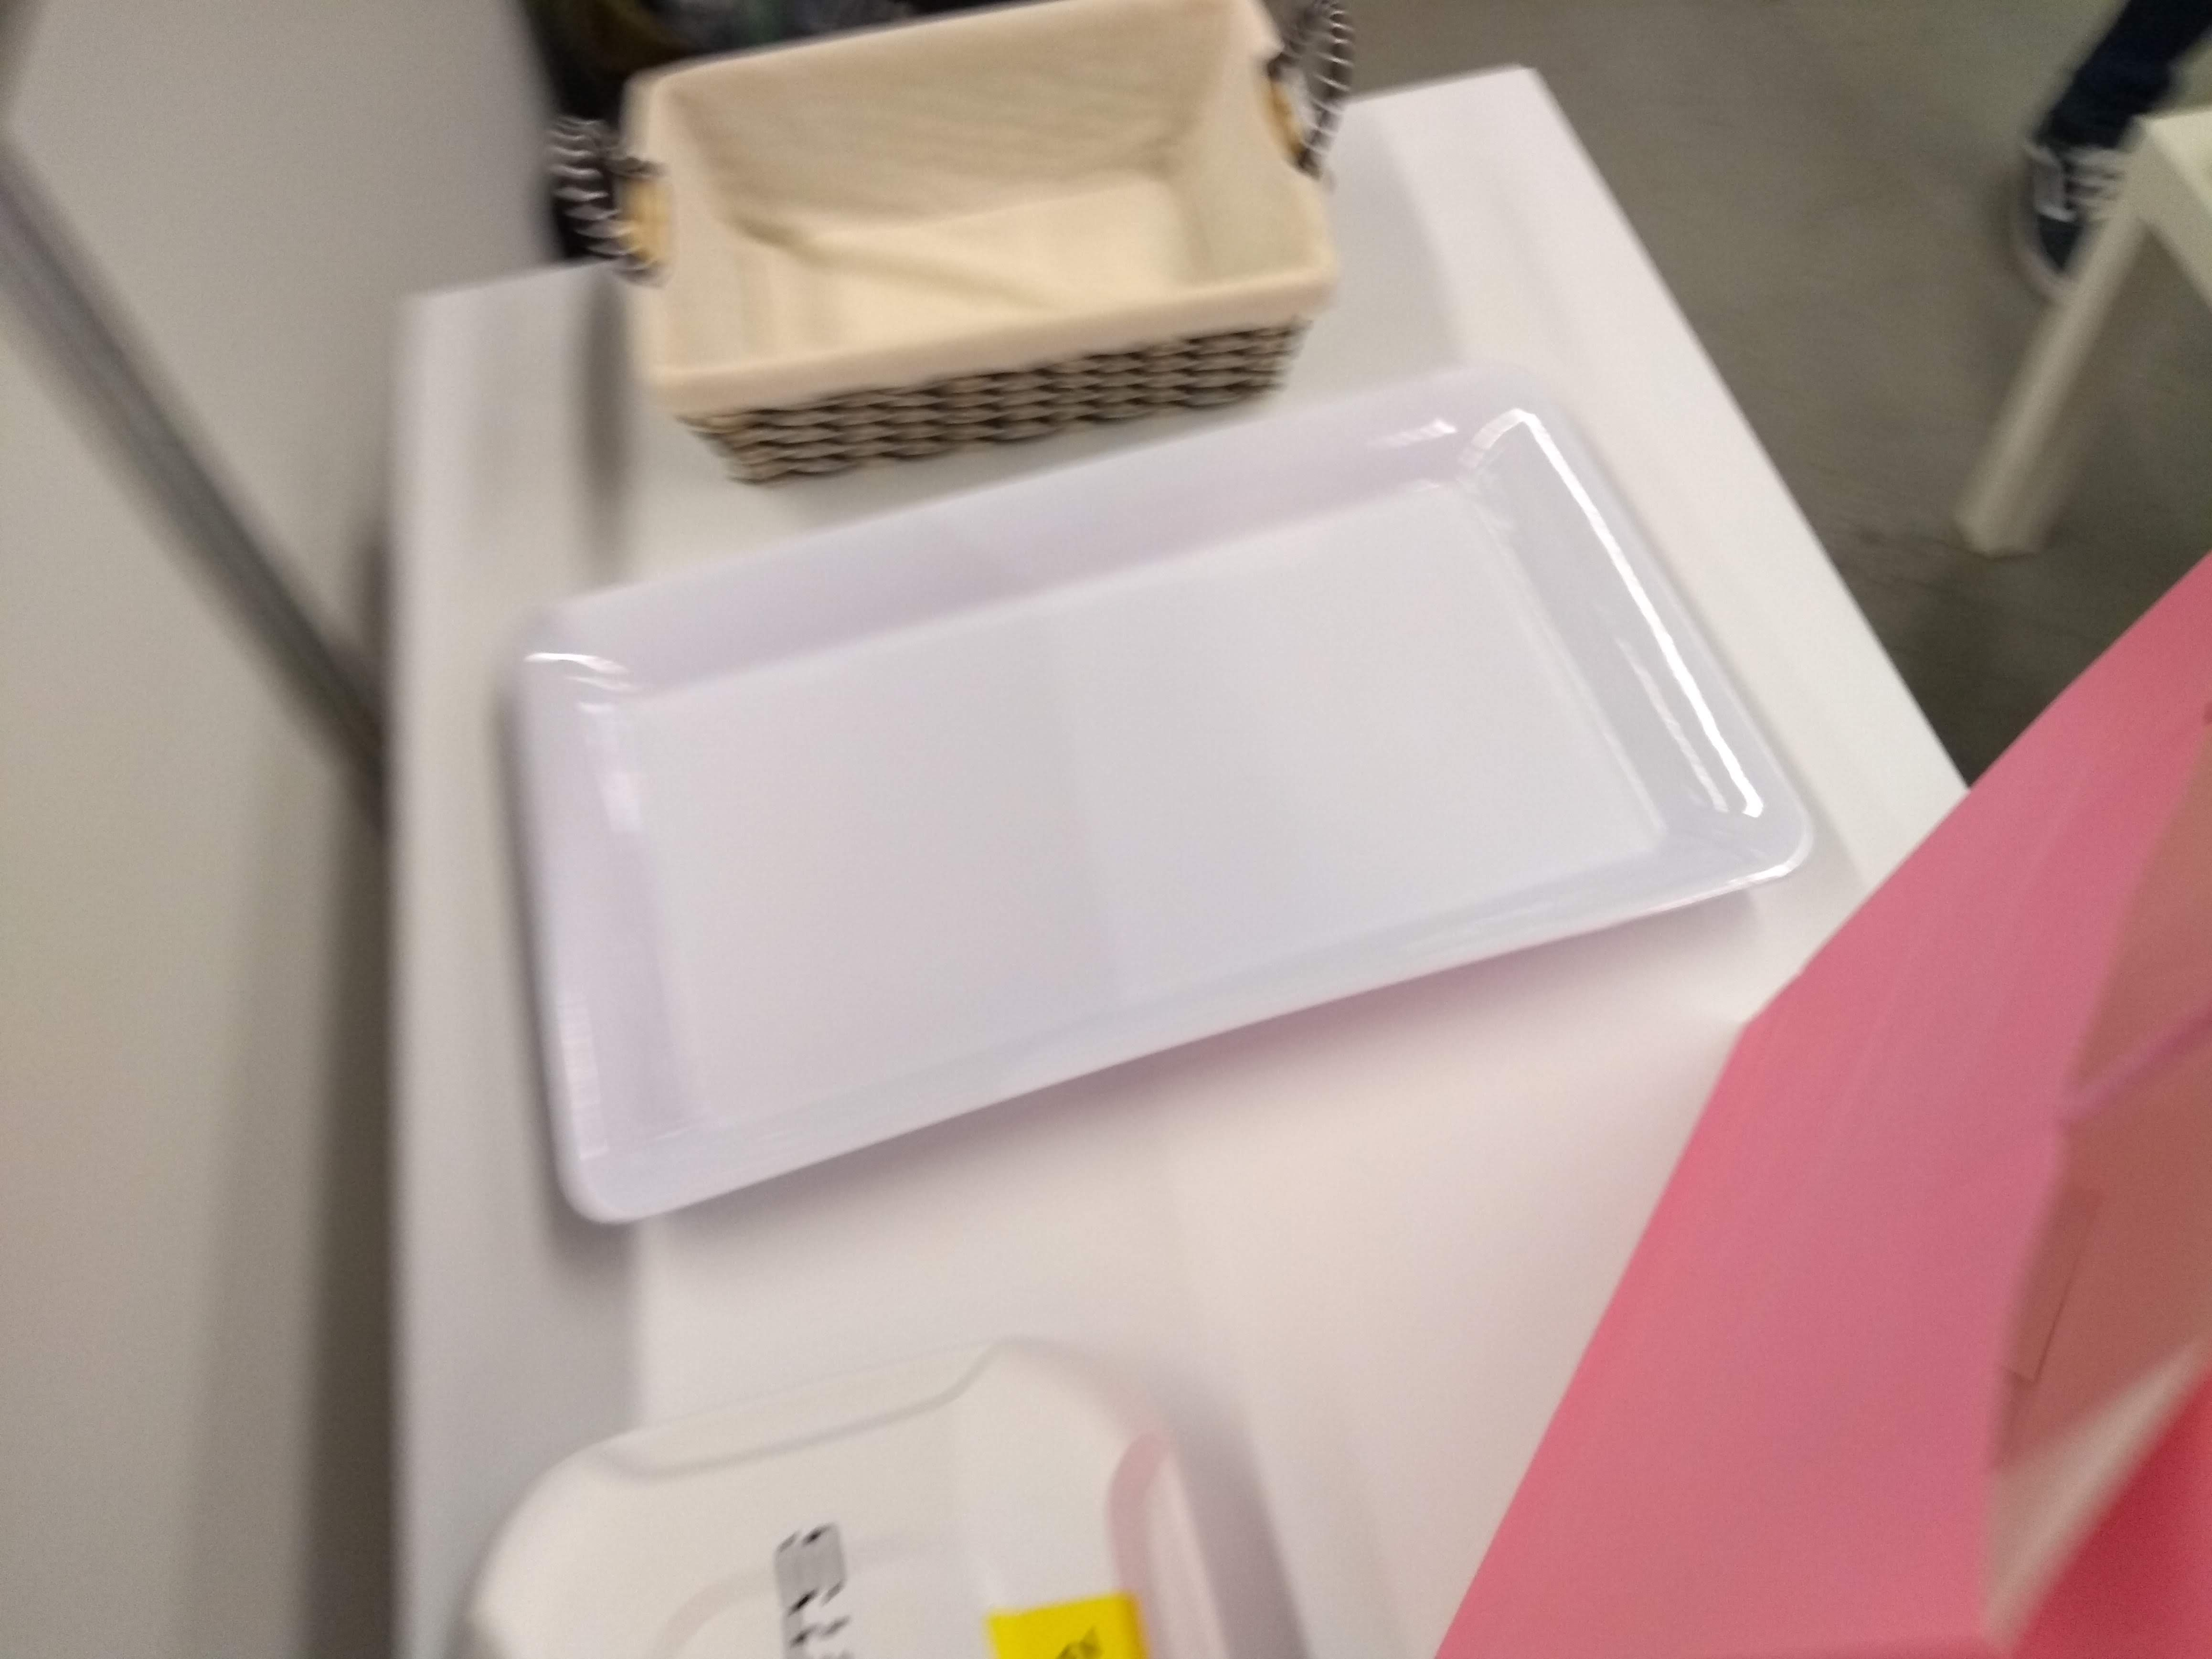basket: (531, 0, 1369, 505)
tray: (502, 376, 1831, 1255)
